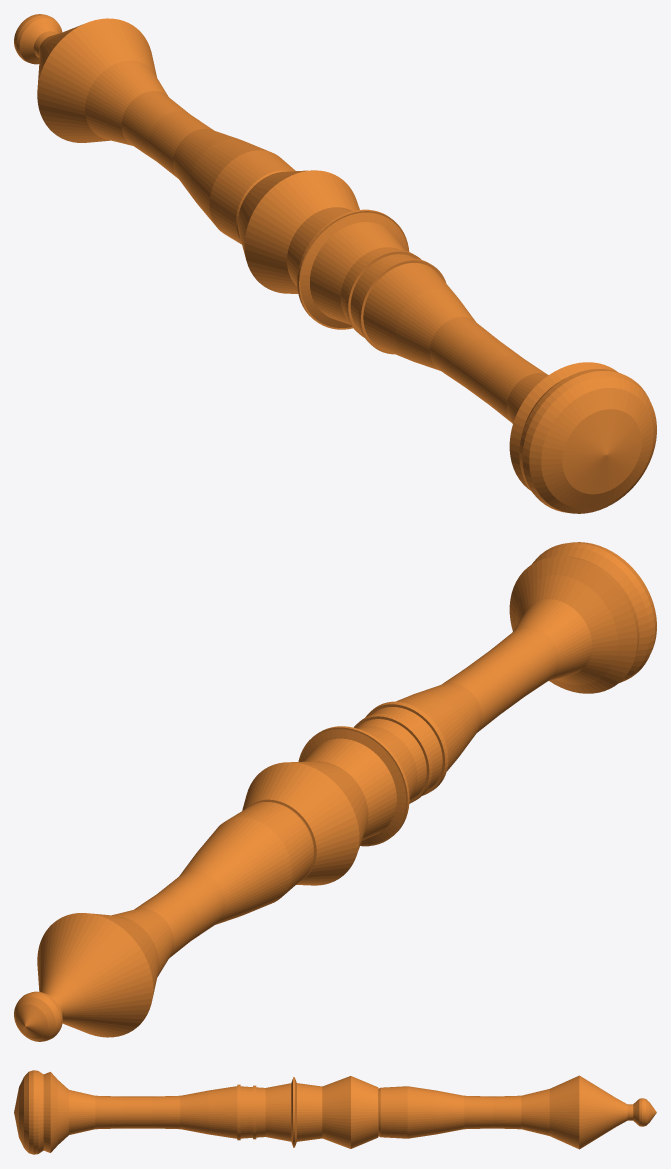
Rendered from Zepter_v2.fbx.
3 views of the same model, one above another, from view 1: azimuth 30°, elevation 25°; view 2: azimuth 150°, elevation 25°; view 3: azimuth 270°, elevation 25° (orthographic). The views are drawn at different scales.
Visible parts, largest first — view 1: Zylinder; view 2: Zylinder; view 3: Zylinder.
Part boxes in pixels (box(x1,y1,x2,y2)): Zylinder: box(14, 14, 656, 513); Zylinder: box(14, 542, 656, 1041); Zylinder: box(14, 1070, 656, 1154).
Size of the model in its own units: 46.26 by 46.32 by 352.
